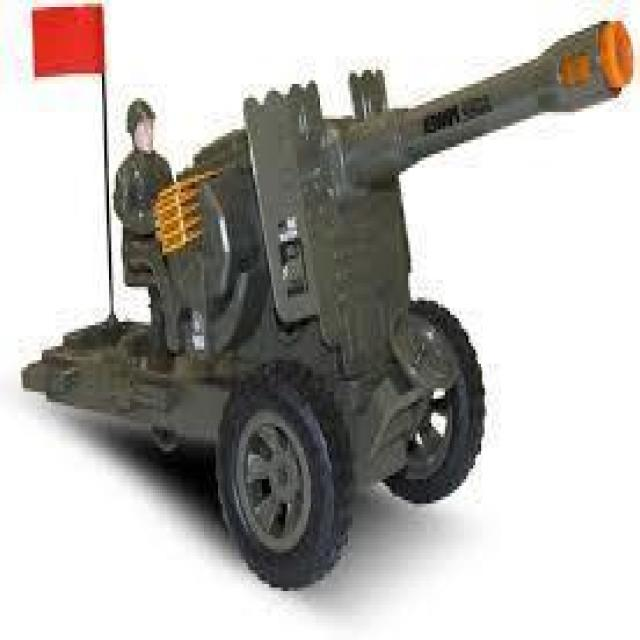Tanks: (30, 66, 494, 577)
